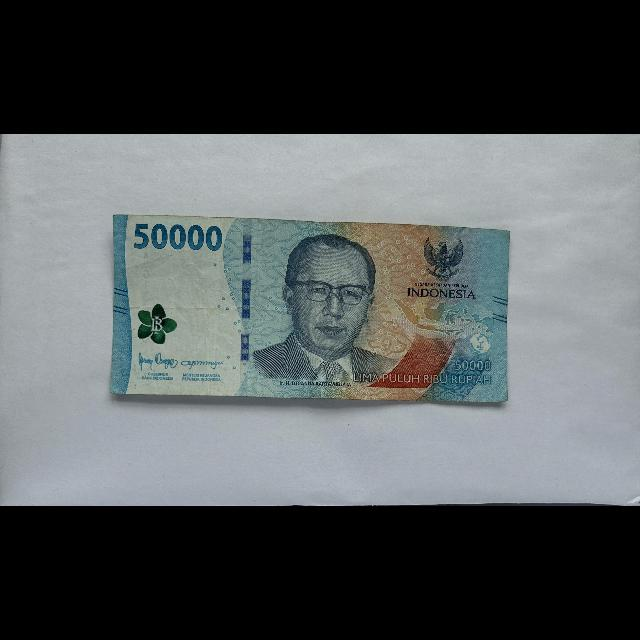Asli-50k: (109, 213, 511, 404)
Tinta-Asli-50k: (138, 303, 179, 346)
